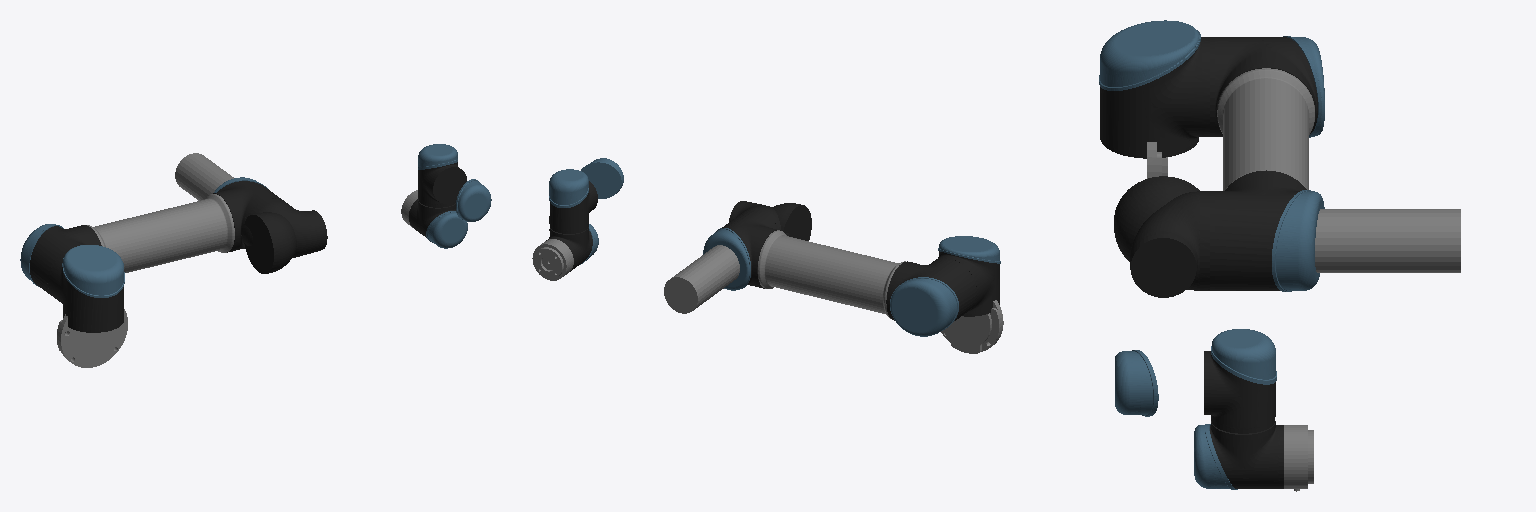
URDF robot description (ur5):
<?xml version="1.0" encoding="utf-8"?>
<!-- =================================================================================== -->
<!-- |    This document was autogenerated by xacro from ur5_robot.urdf.xacro           | -->
<!-- |    EDITING THIS FILE BY HAND IS NOT RECOMMENDED                                 | -->
<!-- =================================================================================== -->
<robot name="ur5">
  <gazebo>
    <plugin filename="libgazebo_ros_control.so" name="ros_control">
      <!--robotNamespace>/</robotNamespace-->
      <!--robotSimType>gazebo_ros_control/DefaultRobotHWSim</robotSimType-->
    </plugin>
    <!--
    <plugin name="gazebo_ros_power_monitor_controller" filename="libgazebo_ros_power_monitor.so">
      <alwaysOn>true</alwaysOn>
      <updateRate>1.0</updateRate>
      <timeout>5</timeout>
      <powerStateTopic>power_state</powerStateTopic>
      <powerStateRate>10.0</powerStateRate>
      <fullChargeCapacity>87.78</fullChargeCapacity>     
      <dischargeRate>-474</dischargeRate>
      <chargeRate>525</chargeRate>
      <dischargeVoltage>15.52</dischargeVoltage>
      <chargeVoltage>16.41</chargeVoltage>
    </plugin>
-->
  </gazebo>
  <!-- measured from model -->
  <!--property name="shoulder_height" value="0.089159" /-->
  <!--property name="shoulder_offset" value="0.13585" /-->
  <!-- shoulder_offset - elbow_offset + wrist_1_length = 0.10915 -->
  <!--property name="upper_arm_length" value="0.42500" /-->
  <!--property name="elbow_offset" value="0.1197" /-->
  <!-- CAD measured -->
  <!--property name="forearm_length" value="0.39225" /-->
  <!--property name="wrist_1_length" value="0.093" /-->
  <!-- CAD measured -->
  <!--property name="wrist_2_length" value="0.09465" /-->
  <!-- In CAD this distance is 0.930, but in the spec it is 0.09465 -->
  <!--property name="wrist_3_length" value="0.0823" /-->
  <!-- manually measured -->

  <material name="Rohr">
    <color rgba="0.524800 0.524800 0.524800 1.0"/>
  </material>
  <material name="verbindung">
    <color rgba="0.178400 0.178400 0.178400 1.0"/>
  </material>
  <material name="blau">
    <color rgba="0.313600 0.434400 0.512000 1.0"/>
  </material>


  <link name="base_link">
    <visual>
      <geometry>
        <mesh filename="base.obj"/>
      </geometry>
      <material name="Rohr"/>
    </visual>
    <collision>
      <geometry>
        <mesh filename="base.obj"/>
      </geometry>
    </collision>
    <inertial>
      <mass value="4.0"/>
      <origin rpy="0 0 0" xyz="0.0 0.0 0.0"/>
      <inertia ixx="0.00443333156" ixy="0.0" ixz="0.0" iyy="0.00443333156" iyz="0.0" izz="0.0072"/>
    </inertial>
  </link>



  <joint name="shoulder_pan_joint" type="revolute">
    <parent link="base_link"/>
    <child link="shoulder_link"/>
    <origin rpy="0.0 0.0 0.0" xyz="0.0 0.0 0.089159"/>
    <axis xyz="0 0 1"/>
    <limit effort="150.0" lower="-6.28318530718" upper="6.28318530718" velocity="3.15"/>
    <dynamics damping="0.0" friction="0.0"/>
  </joint>
  <link name="shoulder_link">
    <visual>
      <geometry>
        <mesh filename="shoulder.obj"/>
      </geometry>
      <material name="verbindung"/>
    </visual>
    <collision>
      <geometry>
        <mesh filename="shoulder.obj"/>
      </geometry>
    </collision>
    <inertial>
      <mass value="3.7"/>
      <origin rpy="0 0 0" xyz="0.0 0.0 0.0"/>
      <inertia ixx="0.010267495893" ixy="0.0" ixz="0.0" iyy="0.010267495893" iyz="0.0" izz="0.00666"/>
    </inertial>
  </link>
  <joint name="shoulder_pan_fix_joint" type="fixed">
    <parent link="shoulder_link"/>
    <child link="shoulder02_link"/>
  </joint>
  <link name="shoulder02_link">
    <visual>
      <geometry>
        <mesh filename="shoulder02.obj"/>
      </geometry>
      <material name="blau"/>
    </visual>
    <collision>
      <geometry>
        <mesh filename="shoulder02.obj"/>
      </geometry>
    </collision>
  </link>



  <joint name="shoulder_lift_joint" type="revolute">
    <parent link="shoulder_link"/>
    <child link="upper_arm_link"/>
    <origin rpy="0.0 1.57079632679 0.0" xyz="0.0 0.13585 0.0"/>
    <axis xyz="0 1 0"/>
    <limit effort="150.0" lower="-6.28318530718" upper="6.28318530718" velocity="3.15"/>
    <dynamics damping="0.0" friction="0.0"/>
  </joint>
  <link name="upper_arm_link">
    <visual>
      <geometry>
        <mesh filename="upperarm.obj"/>
      </geometry>
      <material name="verbindung"/>
    </visual>
    <collision>
      <geometry>
        <mesh filename="upperarm.obj"/>
      </geometry>
    </collision>
    <inertial>
      <mass value="8.393"/>
      <origin rpy="0 0 0" xyz="0.0 0.0 0.28"/>
      <inertia ixx="0.22689067591" ixy="0.0" ixz="0.0" iyy="0.22689067591" iyz="0.0" izz="0.0151074"/>
    </inertial>
  </link>
  <joint name="shoulder_lift_fix02_joint" type="fixed">
    <parent link="upper_arm_link"/>
    <child link="upper_arm02_link"/>
  </joint>
  <link name="upper_arm02_link">
    <visual>
      <geometry>
        <mesh filename="upperarm02.obj"/>
      </geometry>
      <material name="Rohr"/>
    </visual>
    <collision>
      <geometry>
        <mesh filename="upperarm02.obj"/>
      </geometry>
    </collision>
  </link>
  <joint name="shoulder_lift_fix03_joint" type="fixed">
    <parent link="upper_arm_link"/>
    <child link="upper_arm03_link"/>
  </joint>
  <link name="upper_arm03_link">
    <visual>
      <geometry>
        <mesh filename="upperarm03.obj"/>
      </geometry>
      <material name="verbindung"/>
    </visual>
    <collision>
      <geometry>
        <mesh filename="upperarm03.obj"/>
      </geometry>
    </collision>
  </link>
  <joint name="shoulder_lift_fix_01_joint" type="fixed">
    <parent link="upper_arm_link"/>
    <child link="upper_arm_01_link"/>
  </joint>
  <link name="upper_arm_01_link">
    <visual>
      <geometry>
        <mesh filename="upperarm_01.obj"/>
      </geometry>
      <material name="blau"/>
    </visual>
    <collision>
      <geometry>
        <mesh filename="upperarm_01.obj"/>
      </geometry>
    </collision>
  </link>
  <joint name="shoulder_lift_fix03_01_joint" type="fixed">
    <parent link="upper_arm_link"/>
    <child link="upper_arm03_01_link"/>
  </joint>
  <link name="upper_arm03_01_link">
    <visual>
      <geometry>
        <mesh filename="upperarm03_01.obj"/>
      </geometry>
      <material name="blau"/>
    </visual>
    <collision>
      <geometry>
        <mesh filename="upperarm03_01.obj"/>
      </geometry>
    </collision>
  </link>



  <joint name="elbow_joint" type="revolute">
    <parent link="upper_arm_link"/>
    <child link="forearm_link"/>
    <origin rpy="0.0 0.0 0.0" xyz="0.0 -0.1197 0.425"/>
    <axis xyz="0 1 0"/>
    <limit effort="150.0" lower="-3.14159265359" upper="3.14159265359" velocity="3.15"/>
    <dynamics damping="0.0" friction="0.0"/>
  </joint>
  <link name="forearm_link">
    <visual>
      <geometry>
        <mesh filename="forearm.obj"/>
      </geometry>
      <material name="verbindung"/>
    </visual>
    <collision>
      <geometry>
        <mesh filename="forearm.obj"/>
      </geometry>
    </collision>
    <inertial>
      <mass value="2.275"/>
      <origin rpy="0 0 0" xyz="0.0 0.0 0.196125"/>
      <inertia ixx="0.0312167910289" ixy="0.0" ixz="0.0" iyy="0.0312167910289" iyz="0.0" izz="0.004095"/>
    </inertial>
  </link>
  <joint name="elbow_fix02_joint" type="fixed">
    <parent link="forearm_link"/>
    <child link="forearm02_link"/>
  </joint>
  <link name="forearm02_link">
    <visual>
      <geometry>
        <mesh filename="forearm02.obj"/>
      </geometry>
      <material name="Rohr"/>
    </visual>
    <collision>
      <geometry>
        <mesh filename="forearm02.obj"/>
      </geometry>
    </collision>
  </link>
  <joint name="elbow_fix03_joint" type="fixed">
    <parent link="forearm_link"/>
    <child link="forearm03_link"/>
  </joint>
  <link name="forearm03_link">
    <visual>
      <geometry>
        <mesh filename="forearm03.obj"/>
      </geometry>
      <material name="verbindung"/>
    </visual>
    <collision>
      <geometry>
        <mesh filename="forearm03.obj"/>
      </geometry>
    </collision>
  </link>
  <joint name="elbow_fix03_01_joint" type="fixed">
    <parent link="forearm_link"/>
    <child link="forearm03_01_link"/>
  </joint>
  <link name="forearm03_01_link">
    <visual>
      <geometry>
        <mesh filename="forearm03_01.obj"/>
      </geometry>
      <material name="blau"/>
    </visual>
    <collision>
      <geometry>
        <mesh filename="forearm03_01.obj"/>
      </geometry>
    </collision>
  </link>



  <joint name="wrist_1_joint" type="revolute">
    <parent link="forearm_link"/>
    <child link="wrist_1_link"/>
    <origin rpy="0.0 1.57079632679 0.0" xyz="0.0 0.0 0.39225"/>
    <axis xyz="0 1 0"/>
    <limit effort="28.0" lower="-6.28318530718" upper="6.28318530718" velocity="3.2"/>
    <dynamics damping="0.0" friction="0.0"/>
  </joint>
  <link name="wrist_1_link">
    <visual>
      <geometry>
        <mesh filename="wrist1.obj"/>
      </geometry>
      <material name="verbindung"/>
    </visual>
    <collision>
      <geometry>
        <mesh filename="wrist1.obj"/>
      </geometry>
    </collision>
    <inertial>
      <mass value="1.219"/>
      <origin rpy="0 0 0" xyz="0.0 0.093 0.0"/>
      <inertia ixx="0.00255989897604" ixy="0.0" ixz="0.0" iyy="0.00255989897604" iyz="0.0" izz="0.0021942"/>
    </inertial>
  </link>
  <joint name="wrist_1_fix_joint" type="fixed">
    <parent link="wrist_1_link"/>
    <child link="wrist_1_01_link"/>
  </joint>
  <link name="wrist_1_01_link">
    <visual>
      <geometry>
        <mesh filename="wrist1_01.obj"/>
      </geometry>
      <material name="blau"/>
    </visual>
    <collision>
      <geometry>
        <mesh filename="wrist1_01.obj"/>
      </geometry>
    </collision>
  </link>



  <joint name="wrist_2_joint" type="revolute">
    <parent link="wrist_1_link"/>
    <child link="wrist_2_link"/>
    <origin rpy="0.0 0.0 0.0" xyz="0.0 0.093 0.0"/>
    <axis xyz="0 0 1"/>
    <limit effort="28.0" lower="-6.28318530718" upper="6.28318530718" velocity="3.2"/>
    <dynamics damping="0.0" friction="0.0"/>
  </joint>
  <link name="wrist_2_link">
    <visual>
      <geometry>
        <mesh filename="wrist2.obj"/>
      </geometry>
      <material name="verbindung"/>
    </visual>
    <collision>
      <geometry>
        <mesh filename="wrist2.obj"/>
      </geometry>
    </collision>
    <inertial>
      <mass value="1.219"/>
      <origin rpy="0 0 0" xyz="0.0 0.0 0.09465"/>
      <inertia ixx="0.00255989897604" ixy="0.0" ixz="0.0" iyy="0.00255989897604" iyz="0.0" izz="0.0021942"/>
    </inertial>
  </link>
  <joint name="wrist_2_fix_joint" type="fixed">
    <parent link="wrist_2_link"/>
    <child link="wrist_2_01_link"/>
  </joint>
  <link name="wrist_2_01_link">
    <visual>
      <geometry>
        <mesh filename="wrist2_01.obj"/>
      </geometry>
      <material name="blau"/>
    </visual>
    <collision>
      <geometry>
        <mesh filename="wrist2_01.obj"/>
      </geometry>
    </collision>
  </link>



  <joint name="wrist_3_joint" type="revolute">
    <parent link="wrist_2_link"/>
    <child link="wrist_3_link"/>
    <origin rpy="0.0 0.0 0.0" xyz="0.0 0.0 0.09465"/>
    <axis xyz="0 1 0"/>
    <limit effort="28.0" lower="-6.28318530718" upper="6.28318530718" velocity="3.2"/>
    <dynamics damping="0.0" friction="0.0"/>
  </joint>
  <link name="wrist_3_link">
    <visual>
      <geometry>
        <mesh filename="wrist3.obj"/>
      </geometry>
      <material name="Rohr"/>
    </visual>
    <collision>
      <geometry>
        <mesh filename="wrist3.obj"/>
      </geometry>
    </collision>
    <inertial>
      <mass value="0.1879"/>
      <origin rpy="1.57079632679 0 0" xyz="0.0 0.06505 0.0"/>
      <inertia ixx="8.46958911216e-05" ixy="0.0" ixz="0.0" iyy="8.46958911216e-05" iyz="0.0" izz="0.0001321171875"/>
    </inertial>
  </link>



  <joint name="ee_fixed_joint" type="fixed">
    <parent link="wrist_3_link"/>
    <child link="ee_link"/>
    <origin rpy="0.0 0.0 1.57079632679" xyz="0.0 0.0823 0.0"/>
  </joint>
  <link name="ee_link">
    <collision>
      <geometry>
        <box size="0.01 0.01 0.01"/>
      </geometry>
      <origin rpy="0 0 0" xyz="-0.01 0 0"/>
    </collision>
  </link>



  <transmission name="shoulder_pan_trans">
    <type>transmission_interface/SimpleTransmission</type>
    <joint name="shoulder_pan_joint">
      <hardwareInterface>hardware_interface/PositionJointInterface</hardwareInterface>
    </joint>
    <actuator name="shoulder_pan_motor">
      <mechanicalReduction>1</mechanicalReduction>
    </actuator>
  </transmission>
  <transmission name="shoulder_lift_trans">
    <type>transmission_interface/SimpleTransmission</type>
    <joint name="shoulder_lift_joint">
      <hardwareInterface>hardware_interface/PositionJointInterface</hardwareInterface>
    </joint>
    <actuator name="shoulder_lift_motor">
      <mechanicalReduction>1</mechanicalReduction>
    </actuator>
  </transmission>
  <transmission name="elbow_trans">
    <type>transmission_interface/SimpleTransmission</type>
    <joint name="elbow_joint">
      <hardwareInterface>hardware_interface/PositionJointInterface</hardwareInterface>
    </joint>
    <actuator name="elbow_motor">
      <mechanicalReduction>1</mechanicalReduction>
    </actuator>
  </transmission>
  <transmission name="wrist_1_trans">
    <type>transmission_interface/SimpleTransmission</type>
    <joint name="wrist_1_joint">
      <hardwareInterface>hardware_interface/PositionJointInterface</hardwareInterface>
    </joint>
    <actuator name="wrist_1_motor">
      <mechanicalReduction>1</mechanicalReduction>
    </actuator>
  </transmission>
  <transmission name="wrist_2_trans">
    <type>transmission_interface/SimpleTransmission</type>
    <joint name="wrist_2_joint">
      <hardwareInterface>hardware_interface/PositionJointInterface</hardwareInterface>
    </joint>
    <actuator name="wrist_2_motor">
      <mechanicalReduction>1</mechanicalReduction>
    </actuator>
  </transmission>
  <transmission name="wrist_3_trans">
    <type>transmission_interface/SimpleTransmission</type>
    <joint name="wrist_3_joint">
      <hardwareInterface>hardware_interface/PositionJointInterface</hardwareInterface>
    </joint>
    <actuator name="wrist_3_motor">
      <mechanicalReduction>1</mechanicalReduction>
    </actuator>
  </transmission>
  <gazebo reference="shoulder_link">
    <selfCollide>true</selfCollide>
  </gazebo>
  <gazebo reference="upper_arm_link">
    <selfCollide>true</selfCollide>
  </gazebo>
  <gazebo reference="forearm_link">
    <selfCollide>true</selfCollide>
  </gazebo>
  <gazebo reference="wrist_1_link">
    <selfCollide>true</selfCollide>
  </gazebo>
  <gazebo reference="wrist_3_link">
    <selfCollide>true</selfCollide>
  </gazebo>
  <gazebo reference="wrist_2_link">
    <selfCollide>true</selfCollide>
  </gazebo>
  <gazebo reference="ee_link">
    <selfCollide>true</selfCollide>
  </gazebo>
  <!-- ROS base_link to UR 'Base' Coordinates transform -->
  <link name="base"/>
  <joint name="base_link-base_fixed_joint" type="fixed">
    <!-- NOTE: this rotation is only needed as long as base_link itself is
                 not corrected wrt the real robot (ie: rotated over 180
                 degrees)
      -->
    <origin rpy="0 0 -3.14159265359" xyz="0 0 0"/>
    <parent link="base_link"/>
    <child link="base"/>
  </joint>
  <!-- Frame coincident with all-zeros TCP on UR controller -->
  <link name="tool0"/>
  <joint name="wrist_3_link-tool0_fixed_joint" type="fixed">
    <origin rpy="-1.57079632679 0 0" xyz="0 0.0823 0"/>
    <parent link="wrist_3_link"/>
    <child link="tool0"/>
  </joint>
  <link name="world"/>
  <joint name="world_joint" type="fixed">
    <parent link="world"/>
    <child link="base_link"/>
    <origin rpy="0.0 0.0 0.0" xyz="0.0 0.0 0.0"/>
  </joint>
</robot>

--- What the picture shows (computed from the rendered views, not written in the file) ---
The picture shows the robot from 3 angles, left to right: view 1: azimuth 30°, elevation 25°; view 2: azimuth 150°, elevation 25°; view 3: azimuth 270°, elevation 25°; orthographic projection.
Robot: ur5 — 21 links, 20 joints (6 revolute, 14 fixed); root link world; default pose: every joint at zero.
Visible links, largest first — view 1: upper_arm02_link, shoulder_link, shoulder02_link, forearm03_link, base_link, upper_arm_link, forearm_link, wrist_1_link, forearm02_link, upper_arm03_link, forearm03_01_link, wrist_2_01_link (+3 smaller); view 2: upper_arm02_link, upper_arm_01_link, forearm02_link, upper_arm_link, base_link, upper_arm03_link, shoulder_link, wrist_1_01_link, wrist_3_link, wrist_1_link, shoulder02_link, upper_arm03_01_link (+4 smaller); view 3: forearm02_link, upper_arm02_link, shoulder_link, upper_arm03_link, forearm_link, shoulder02_link, upper_arm_link, wrist_1_link, upper_arm03_01_link, wrist_2_link, forearm03_link, wrist_1_01_link (+5 smaller).
Link boxes in pixels (x1,y1,x2,y2): upper_arm02_link: [87, 194, 234, 272]; shoulder_link: [49, 250, 123, 332]; shoulder02_link: [62, 245, 124, 297]; forearm03_link: [244, 212, 296, 273]; base_link: [57, 309, 127, 367]; upper_arm_link: [30, 225, 101, 296]; forearm_link: [243, 199, 327, 257]; wrist_1_link: [418, 162, 466, 207]; forearm02_link: [175, 153, 233, 200]; upper_arm03_link: [213, 181, 284, 252]; forearm03_01_link: [456, 179, 491, 221]; wrist_2_01_link: [426, 211, 467, 248]; upper_arm02_link: [758, 230, 905, 318]; upper_arm_01_link: [890, 277, 958, 336]; forearm02_link: [664, 245, 739, 313]; upper_arm_link: [886, 258, 976, 320]; base_link: [941, 300, 1003, 353]; upper_arm03_link: [722, 211, 780, 288]; shoulder_link: [933, 251, 999, 316]; wrist_1_01_link: [549, 169, 588, 207]; wrist_3_link: [532, 239, 573, 280]; wrist_1_link: [549, 181, 597, 233]; shoulder02_link: [938, 236, 1000, 263]; upper_arm03_01_link: [703, 228, 750, 290]; forearm02_link: [1315, 209, 1460, 272]; upper_arm02_link: [1217, 68, 1314, 190]; shoulder_link: [1100, 37, 1209, 158]; upper_arm03_link: [1210, 170, 1306, 290]; forearm_link: [1130, 191, 1209, 297]; shoulder02_link: [1099, 20, 1200, 90]; upper_arm_link: [1210, 37, 1317, 136]; wrist_1_link: [1204, 351, 1275, 433]; upper_arm03_01_link: [1272, 190, 1324, 291]; wrist_2_link: [1210, 421, 1283, 488]; forearm03_link: [1114, 176, 1199, 261]; wrist_1_01_link: [1211, 329, 1276, 384].
Bounding box of the posed robot: 0.9295 × 0.4226 × 0.231 m (x, y, z).
Meshes: 17 distinct files referenced, 17 mesh visuals loaded (17 OBJ).
